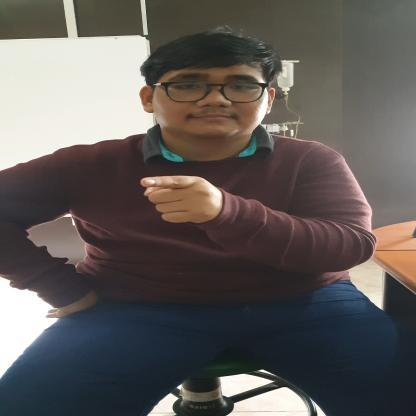Kamu: (135, 172, 224, 228)
